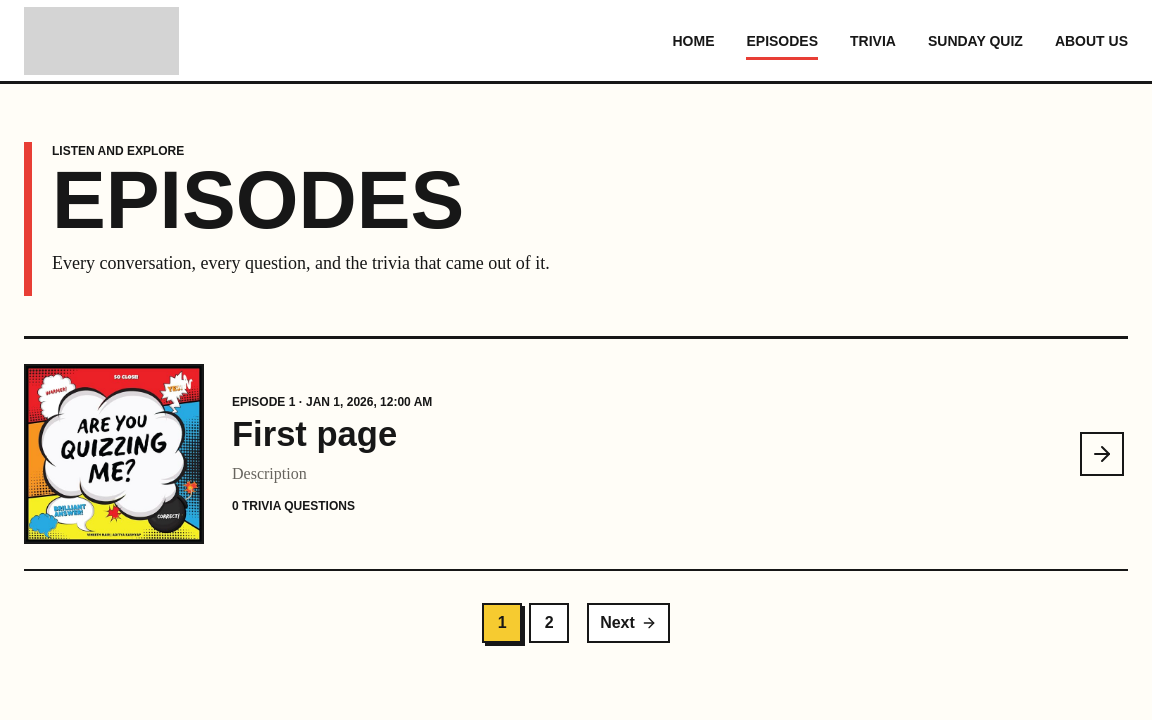
public experience › paginates the episode archive through the URL-backed API
Expected: the link "First page" is shown, [232,415,397,453]
Click the button "Next" at {"x": 629, "y": 624}, box [587,604,670,644]
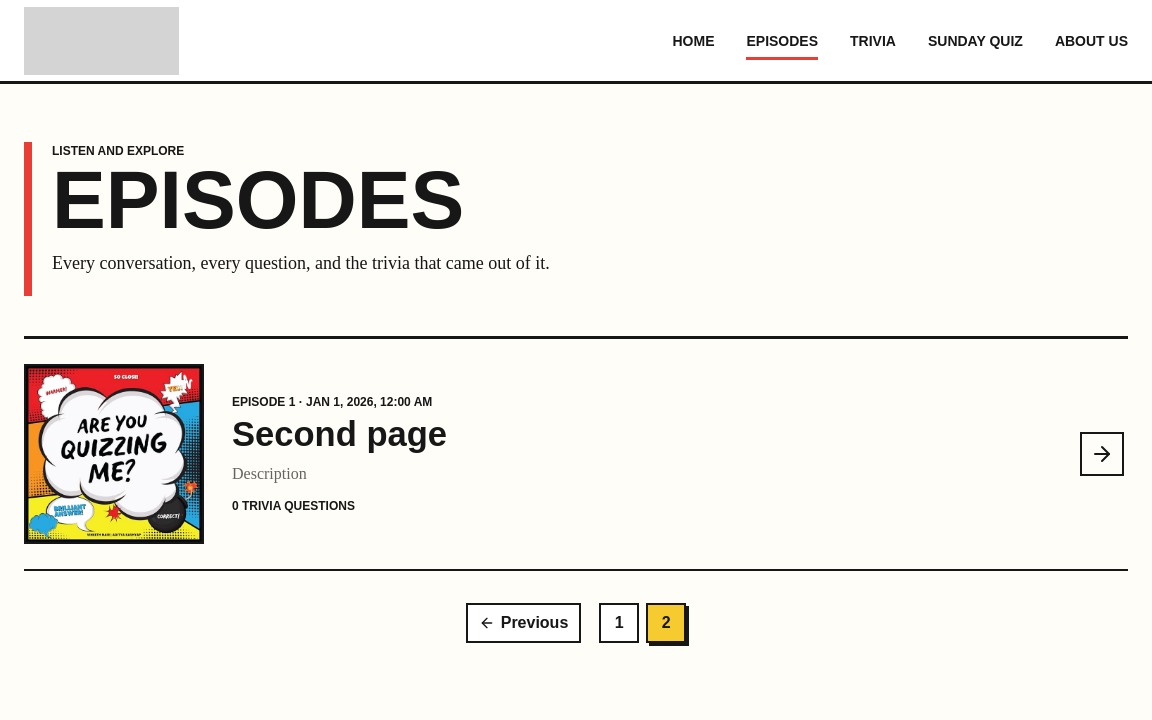
Expected: the link "Second page" is shown, [232,415,447,453]
